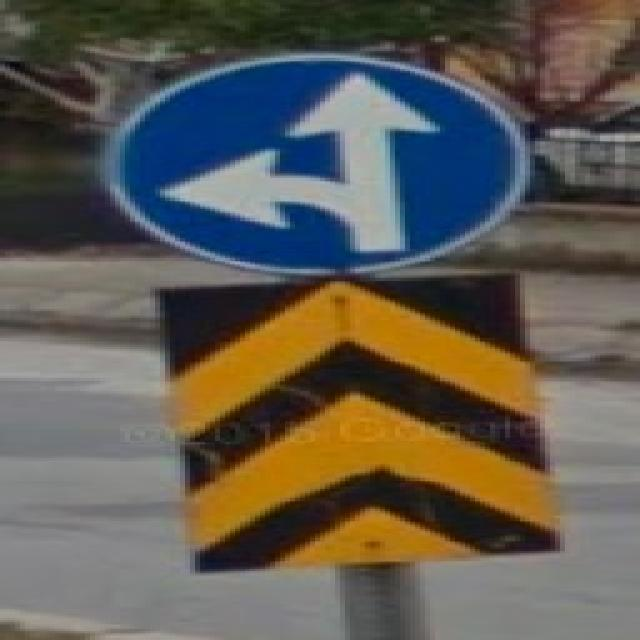Straight or Left: (111, 54, 531, 276)
